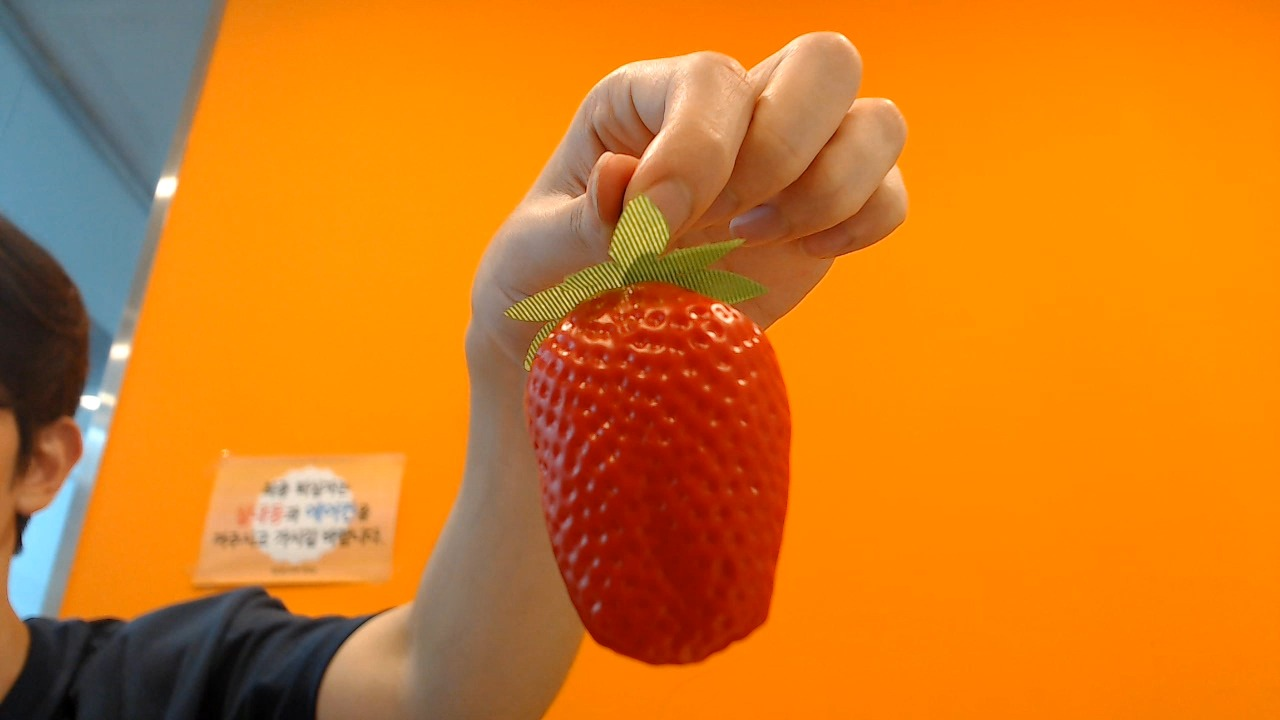strawberry: (520, 245, 791, 667)
